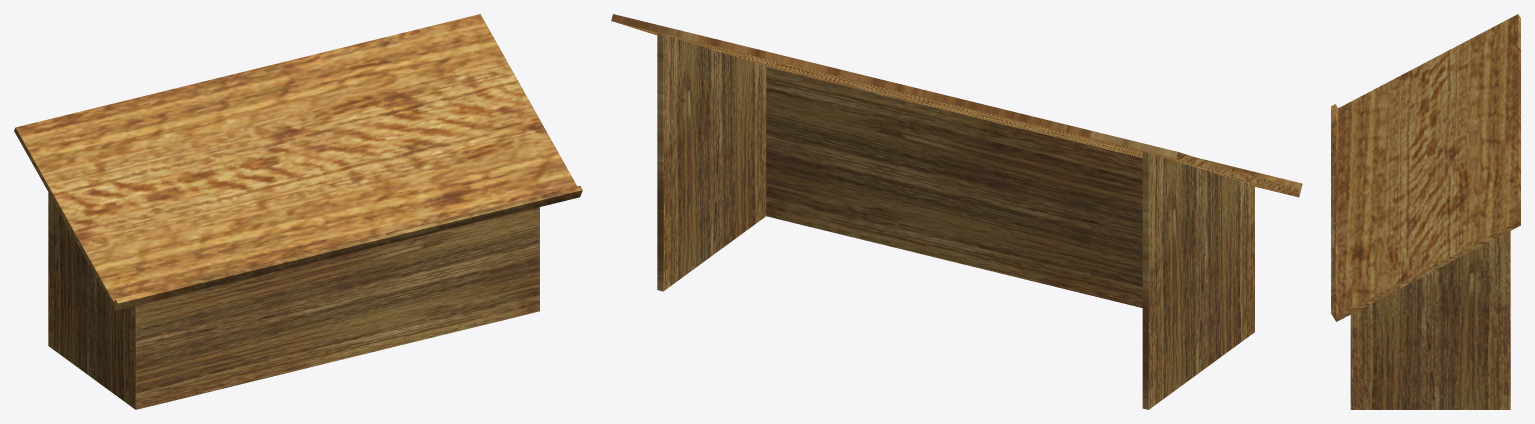
The model's file is Market_Counter04.glb.
3 views of the same model, side by side, from view 1: azimuth 30°, elevation 25°; view 2: azimuth 150°, elevation 25°; view 3: azimuth 270°, elevation 25° (orthographic). The views are drawn at different scales.
Visible parts, largest first — view 1: MARKET_COUNTER04; view 2: MARKET_COUNTER04; view 3: MARKET_COUNTER04.
Part boxes in pixels (left/top/right/bottom): MARKET_COUNTER04: left=14, top=14, right=582, bottom=409; MARKET_COUNTER04: left=611, top=14, right=1302, bottom=409; MARKET_COUNTER04: left=1331, top=14, right=1520, bottom=409.
Size of the model in its own units: 2.3 by 1.05 by 0.891.
Materials: 1 (1 with a texture image).
